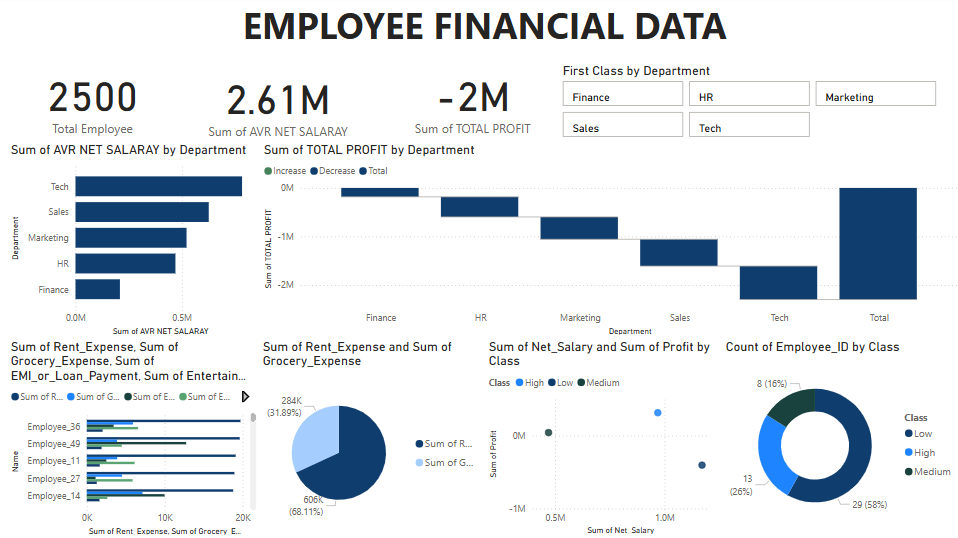

This screenshot's page, from the dashboard's own definition file:
{"tool":"powerbi","page":{"name":"Page 1","canvas":[1280,720],"ordinal":0},"visuals":[{"type":"textbox","box":[10.5,0,1269.7,76.2],"z":0},{"type":"card","fields":{"Values":["employee_financial_data.Column"]},"box":[10.5,79.2,227.1,115],"z":1000},{"type":"card","fields":{"Values":["employee_financial_data.AVR NET SALARAY"]},"box":[237.5,89.6,265.9,104.6],"z":2000},{"type":"card","fields":{"Values":["employee_financial_data.TOTAL PROFIT"]},"box":[495.9,79.2,267.4,115],"z":3000},{"type":"clusteredBarChart","fields":{"Category":["employee_financial_data.Department"],"Y":["employee_financial_data.AVR NET SALARAY"]},"box":[10.5,194.2,336.1,261.4],"z":4000},{"type":"clusteredBarChart","fields":{"Category":["employee_financial_data.Name"],"Y":["employee_financial_data.Rent_Expense","employee_financial_data.Grocery_Expense","employee_financial_data.EMI_or_Loan_Payment","employee_financial_data.Entertainment_Expense","employee_financial_data.Other_Expenses"]},"box":[10.1,455.2,336,265.4],"z":5000},{"type":"waterfallChart","fields":{"Category":["employee_financial_data.Department"],"Y":["employee_financial_data.TOTAL PROFIT"]},"box":[346.6,194.2,933.6,261.4],"z":6000},{"type":"pieChart","fields":{"Y":["employee_financial_data.Rent_Expense","employee_financial_data.Grocery_Expense"]},"box":[345.8,455.5,299.2,264.3],"z":7000},{"type":"scatterChart","fields":{"X":["employee_financial_data.Net_Salary"],"Y":["employee_financial_data.Profit"],"Series":["employee_financial_data.Class"]},"box":[645,455.5,315.8,264.3],"z":8000},{"type":"donutChart","fields":{"Y":["employee_financial_data.Employee_ID"],"Category":["employee_financial_data.Class"]},"box":[961,455,319,264],"z":9000},{"type":"advancedSlicerVisual","fields":{"Values":["employee_financial_data.Department"]},"box":[743.9,89.6,507.9,104.6],"z":9001}]}

Visuals, with their boxes in screenshot pixels (x1, y1, x2, y2), scaled from the page's 1280x720 canvas onto the 958x538 screenshot:
textbox: box(8, 0, 957, 57)
card - employee_financial_data.Column: box(8, 59, 178, 145)
card - employee_financial_data.AVR NET SALARAY: box(178, 67, 377, 145)
card - employee_financial_data.TOTAL PROFIT: box(371, 59, 571, 145)
clusteredBarChart - employee_financial_data.Department x employee_financial_data.AVR NET SALARAY: box(8, 145, 259, 340)
clusteredBarChart - employee_financial_data.Name x employee_financial_data.Rent_Expense: box(8, 340, 259, 537)
waterfallChart - employee_financial_data.Department x employee_financial_data.TOTAL PROFIT: box(259, 145, 957, 340)
pieChart - employee_financial_data.Rent_Expense x employee_financial_data.Grocery_Expense: box(259, 340, 483, 537)
scatterChart - employee_financial_data.Net_Salary x employee_financial_data.Profit: box(483, 340, 719, 537)
donutChart - employee_financial_data.Employee_ID x employee_financial_data.Class: box(719, 340, 957, 537)
advancedSlicerVisual - employee_financial_data.Department: box(557, 67, 937, 145)
